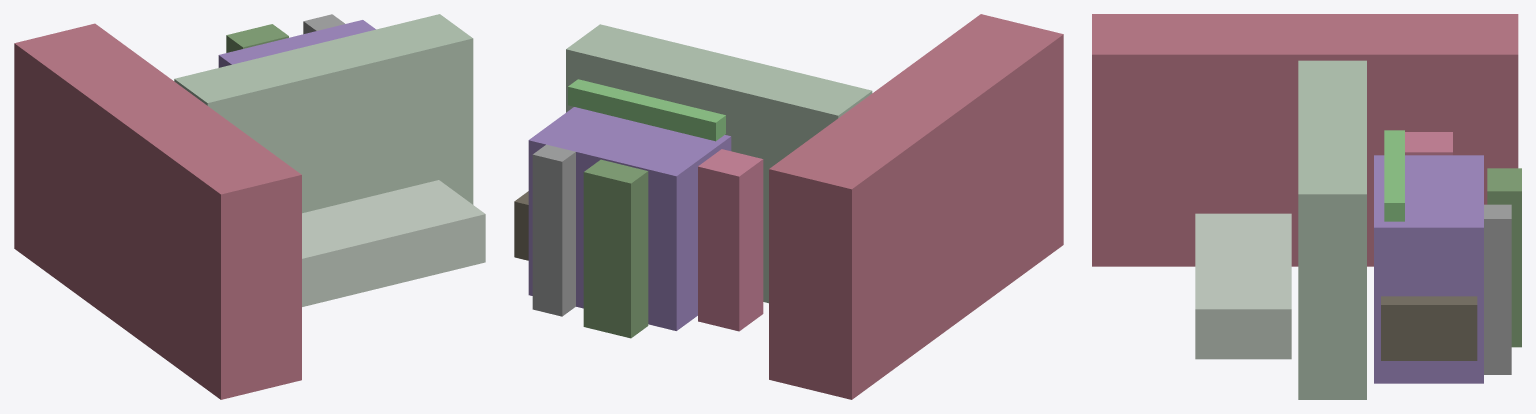
3 views of the same model, side by side, from view 1: azimuth 30°, elevation 25°; view 2: azimuth 150°, elevation 25°; view 3: azimuth 270°, elevation 25° (orthographic). The views are drawn at different scales.
Visible parts, largest first — view 1: world; view 2: world; view 3: world.
Boxes of the visible parts, x1=… form: world: x1=14, y1=14, x2=485, y2=399; world: x1=514, y1=14, x2=1063, y2=399; world: x1=1092, y1=14, x2=1521, y2=399.
Bounding box in the file's own units: 6.1 × 3.4 × 6.25.
